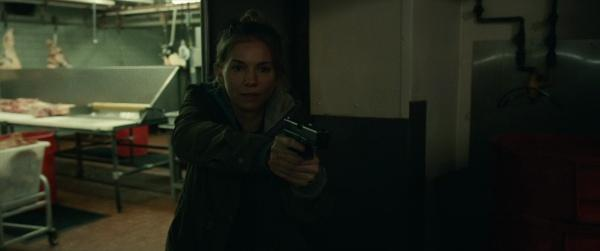Gun: (283, 118, 330, 161)
